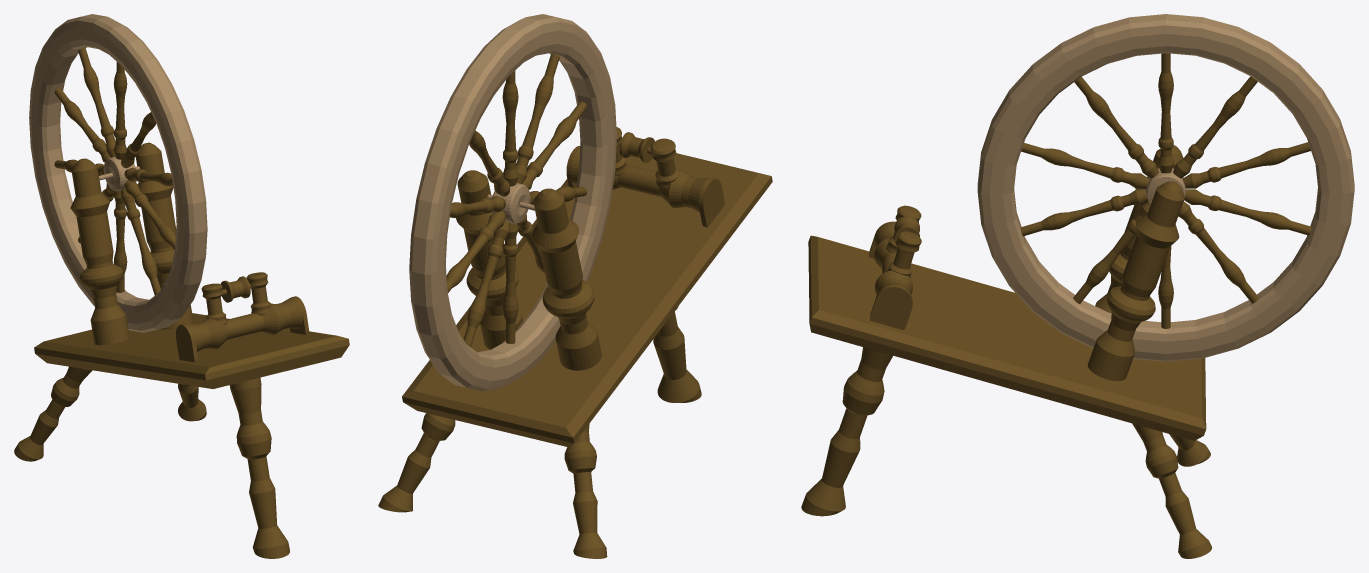
Rendered from pryalka.fbx.
The picture shows the model from 3 angles, left to right: view 1: azimuth 30°, elevation 25°; view 2: azimuth 150°, elevation 25°; view 3: azimuth 270°, elevation 25°; orthographic projection. The views are drawn at different scales.
Visible parts, largest first — view 1: Circle.010, Circle.011; view 2: Circle.010, Circle.011; view 3: Circle.010, Circle.011.
Part boxes in pixels (x1=…): Circle.010: x1=14, y1=142, x2=349, y2=558; Circle.011: x1=29, y1=14, x2=207, y2=332; Circle.010: x1=378, y1=127, x2=772, y2=558; Circle.011: x1=409, y1=14, x2=616, y2=391; Circle.010: x1=801, y1=145, x2=1211, y2=558; Circle.011: x1=977, y1=14, x2=1354, y2=361.
Bounding box in the file's own units: 104 × 221 × 227.
